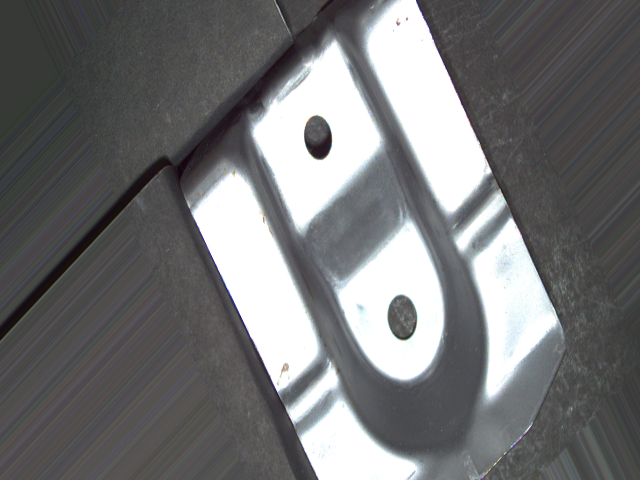defect: (380, 292, 421, 346)
